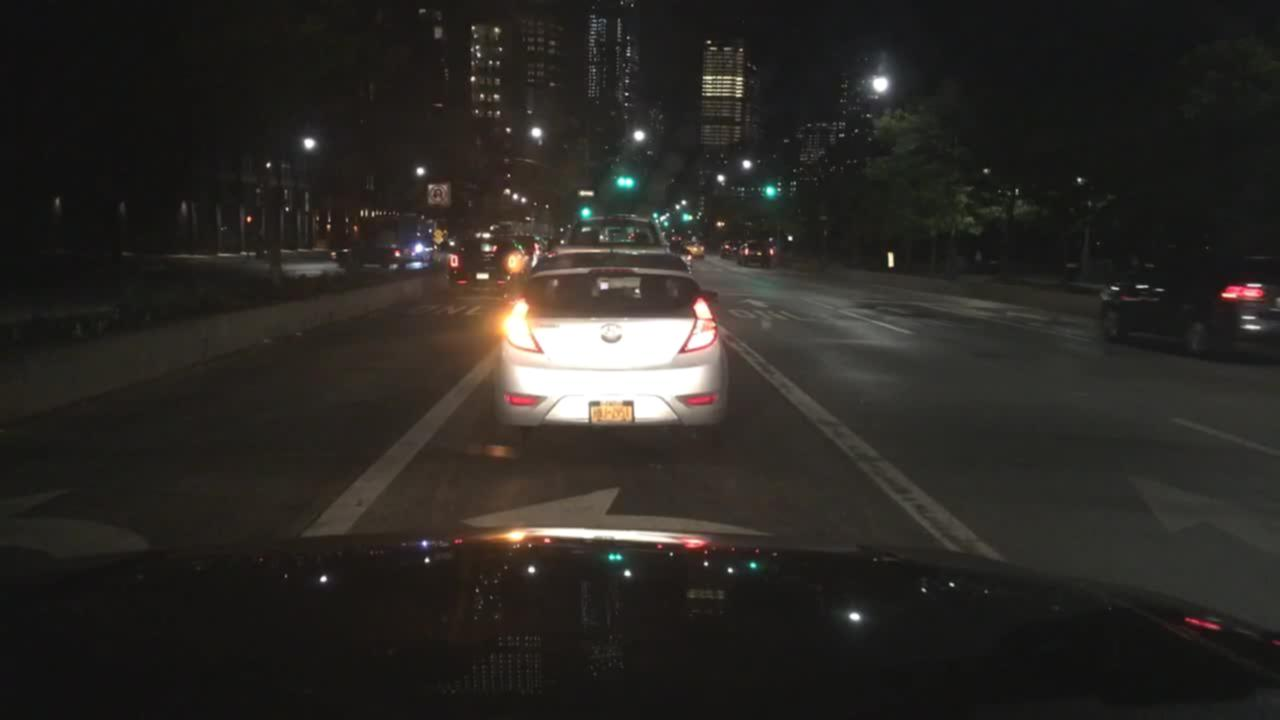Hyundai: (594, 318, 629, 339)
